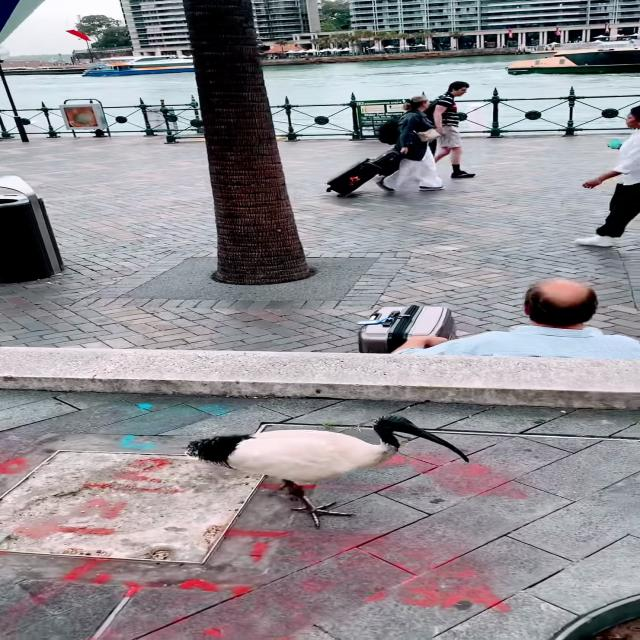Birds-Ibis: (176, 411, 479, 531)
